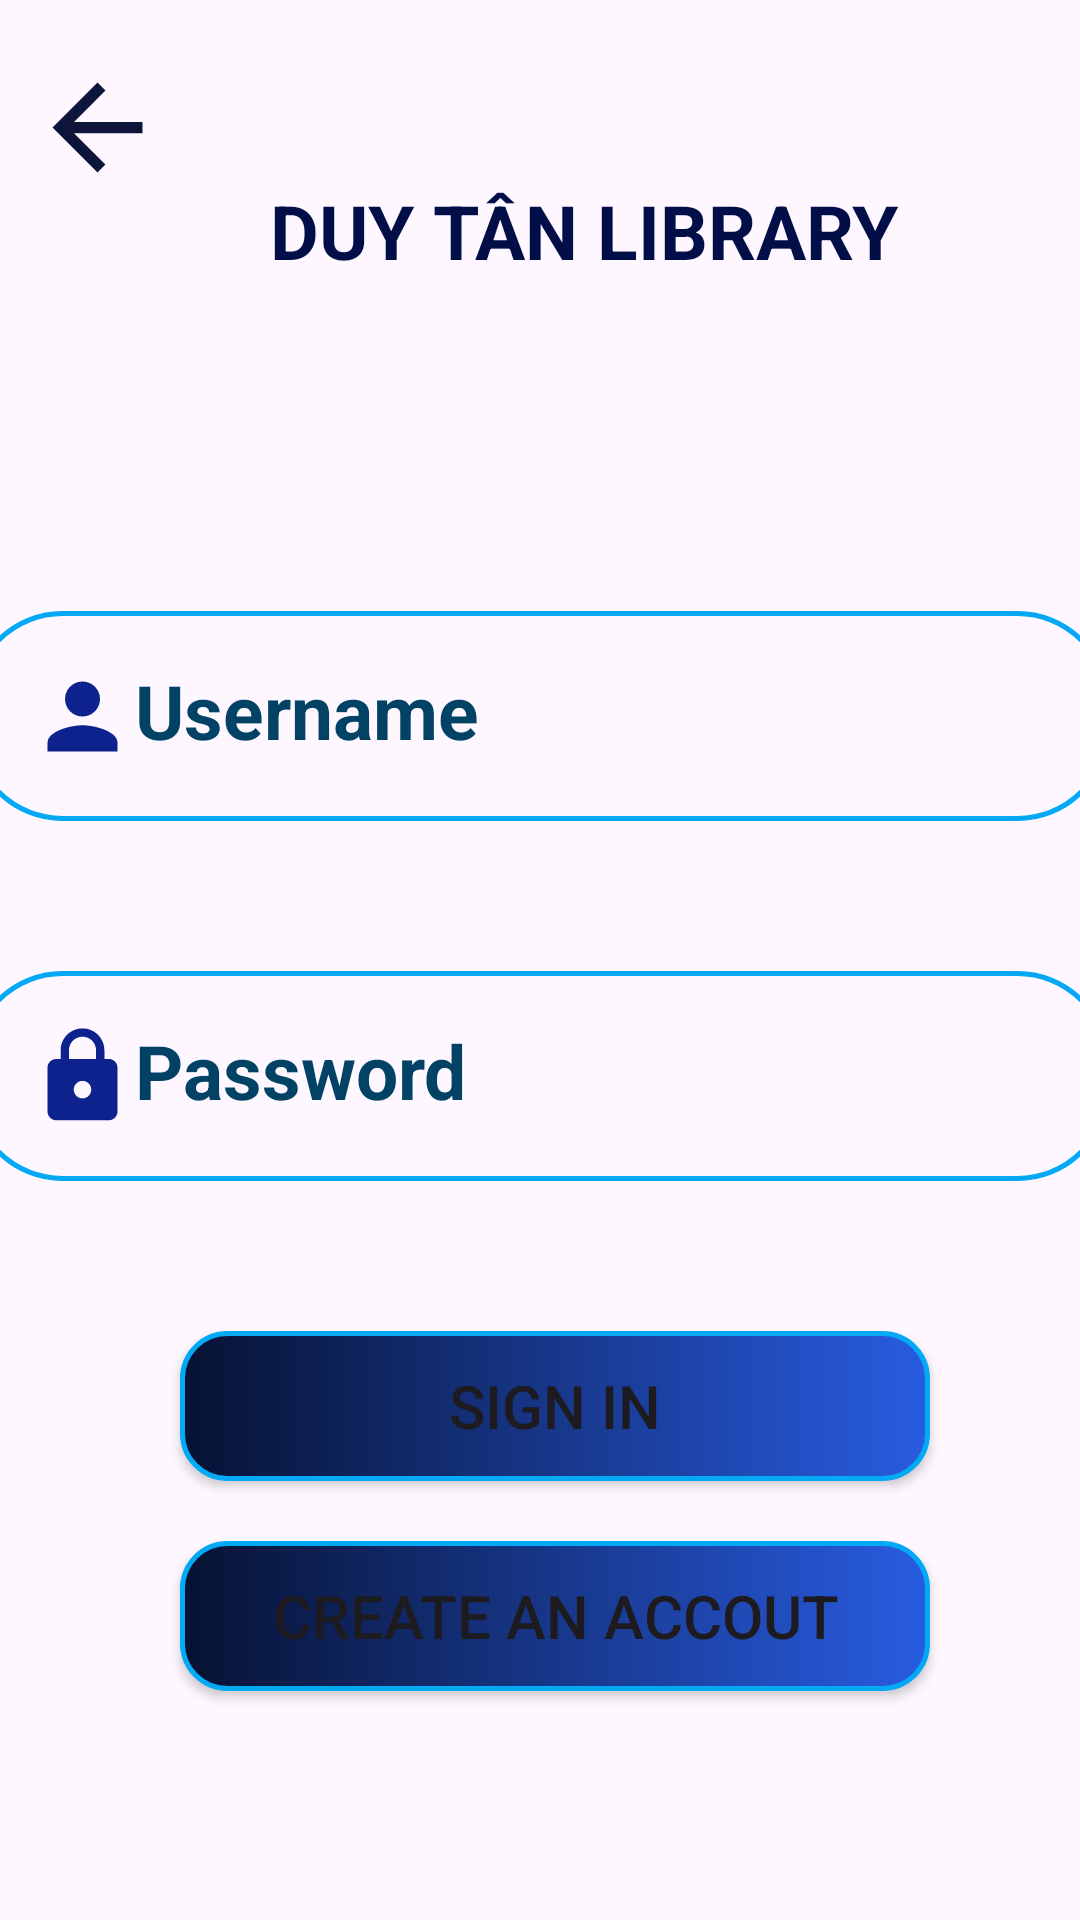

Screen size 1080×1920. Icon name, then its center in pixels as point (x, y):
previou: point (97, 127)
